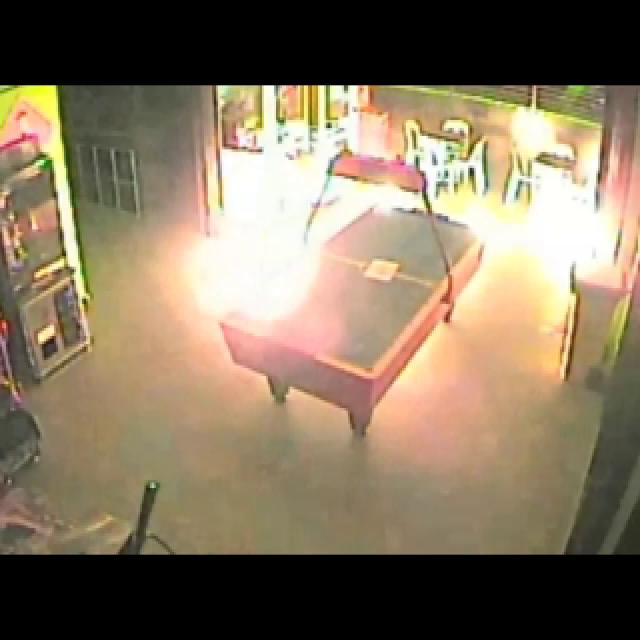arson: (67, 32, 640, 489)
